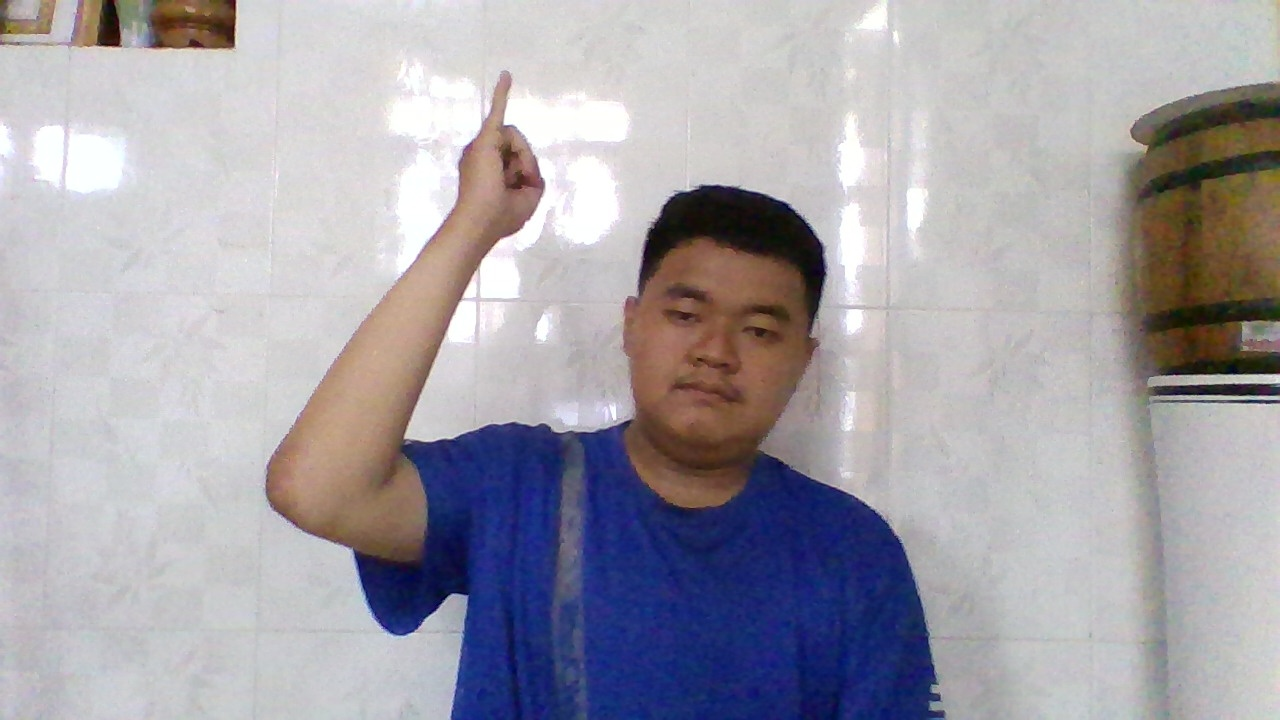I: (465, 62, 554, 243)
